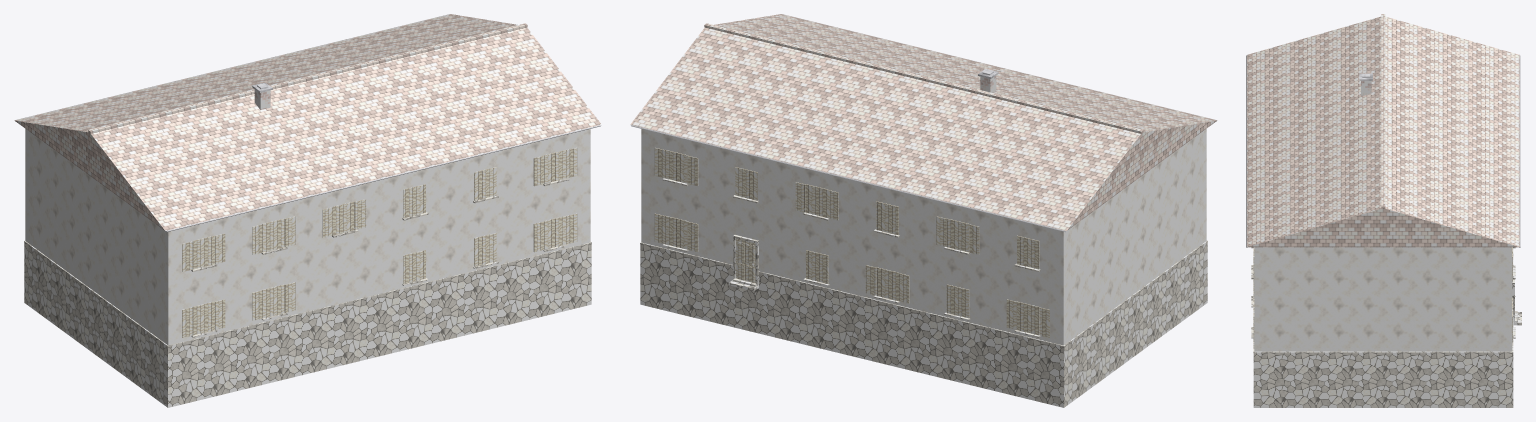
The picture shows the model from 3 angles, left to right: view 1: azimuth 30°, elevation 25°; view 2: azimuth 150°, elevation 25°; view 3: azimuth 270°, elevation 25°; orthographic projection. The views are drawn at different scales.
Parts seen in each view (by area): view 1: b615242528; view 2: b615242528; view 3: b615242528.
Boxes of the visible parts, <box> form: b615242528: <box>14,14,601,407</box>; b615242528: <box>630,14,1217,407</box>; b615242528: <box>1246,14,1521,407</box>.
Bounding box in the file's own units: 21.52 × 11.21 × 13.02.
Materials: 19 (19 with a texture image).
